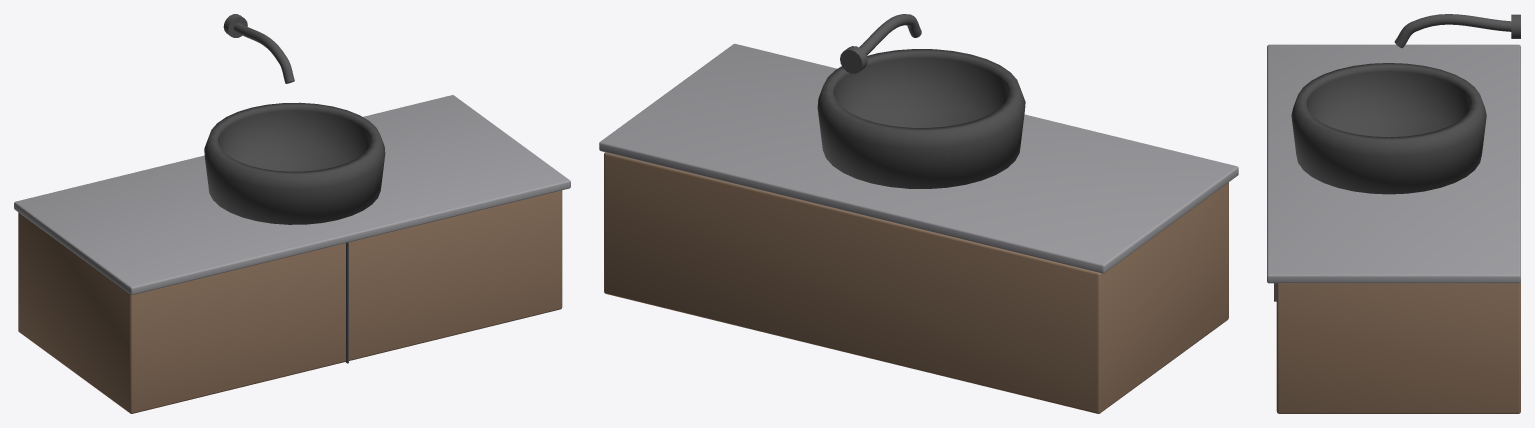
Rendered from it_vanity_wide.glb.
3 views of the same model, side by side, from view 1: azimuth 30°, elevation 25°; view 2: azimuth 150°, elevation 25°; view 3: azimuth 270°, elevation 25° (orthographic). The views are drawn at different scales.
Visible parts, largest first — view 1: body, top, basin, spout; view 2: body, top, basin, spout, mixer; view 3: top, body, basin, spout, mixer.
Boxes of the visible parts, bbox=[...] form: body: bbox=[18, 190, 562, 413]; top: bbox=[14, 95, 570, 294]; basin: bbox=[204, 102, 385, 224]; spout: bbox=[233, 23, 294, 83]; body: bbox=[604, 152, 1228, 413]; top: bbox=[599, 44, 1238, 273]; basin: bbox=[817, 49, 1025, 188]; spout: bbox=[849, 14, 921, 66]; mixer: bbox=[840, 46, 867, 73]; top: bbox=[1267, 44, 1520, 283]; body: bbox=[1276, 282, 1520, 413]; basin: bbox=[1291, 63, 1486, 194]; spout: bbox=[1394, 14, 1511, 48]; mixer: bbox=[1511, 14, 1520, 38].
Size of the model in its own units: 1.12 by 0.6481 by 0.52.
